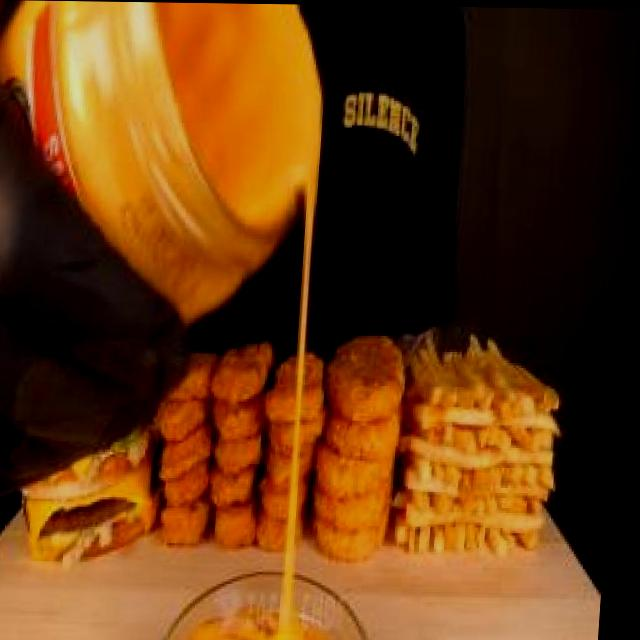Hashbrown: (315, 309, 419, 568)
burger: (37, 1, 368, 314), (10, 435, 185, 572)
french fries: (403, 305, 582, 572)
nugget: (152, 315, 344, 567)
